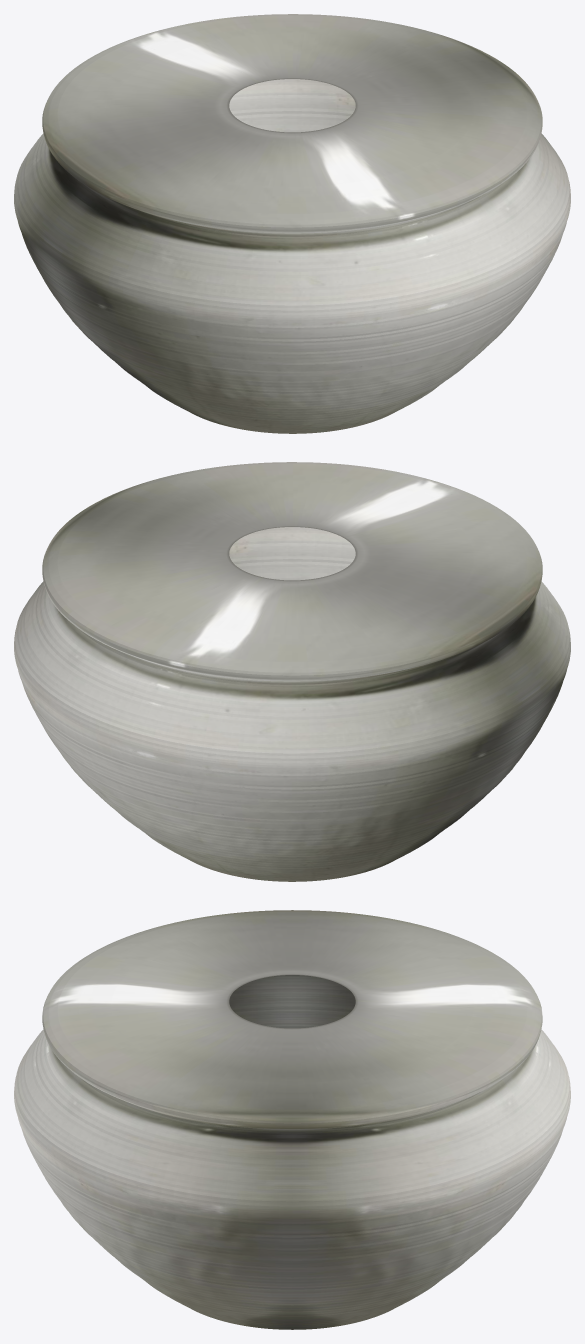
File: cma-98796.glb
The picture shows the model from 3 angles, top to bottom: view 1: azimuth 30°, elevation 25°; view 2: azimuth 150°, elevation 25°; view 3: azimuth 270°, elevation 25°; orthographic projection.
Visible parts, largest first — view 1: geometry_0; view 2: geometry_0; view 3: geometry_0.
Part boxes in pixels (x1=…): geometry_0: x1=14, y1=14, x2=570, y2=433; geometry_0: x1=14, y1=462, x2=570, y2=881; geometry_0: x1=14, y1=910, x2=570, y2=1329.
Bounding box in the file's own units: 51.86 × 30 × 51.86.
1 material, 1 textured.
